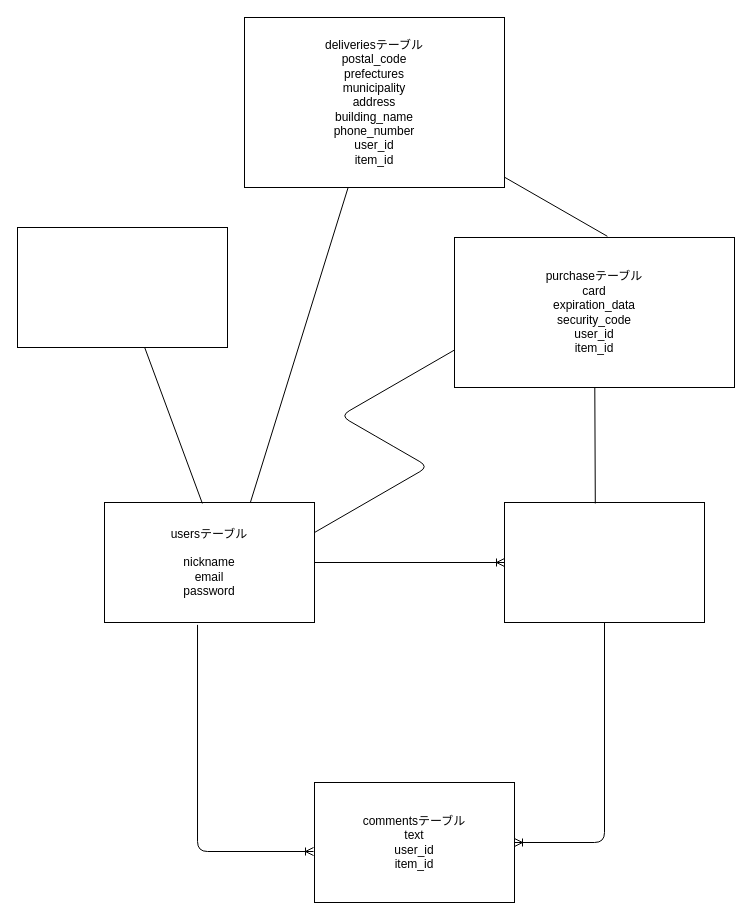
This 752x920 diagram has some shape labels left out. The centre of each missing label's shape, as x and y in pixels:
itemsテーブル text image user_id: [604,562]
profilesテーブル name kana_name birthday: [122,287]
